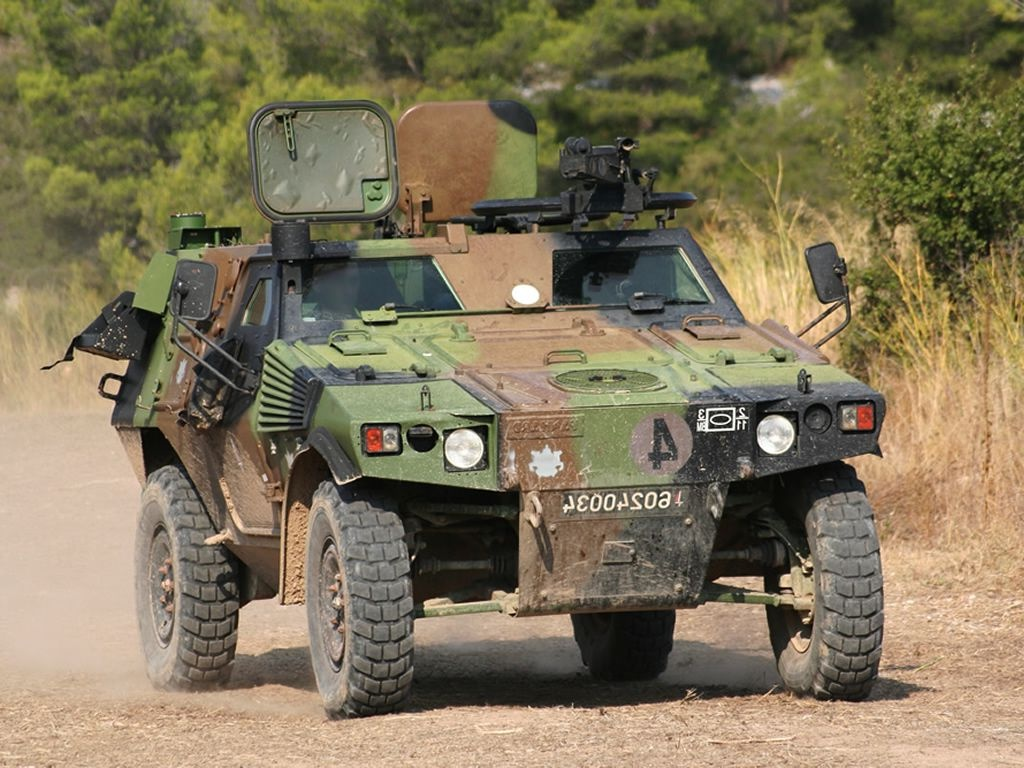license_plate: (555, 486, 691, 520)
